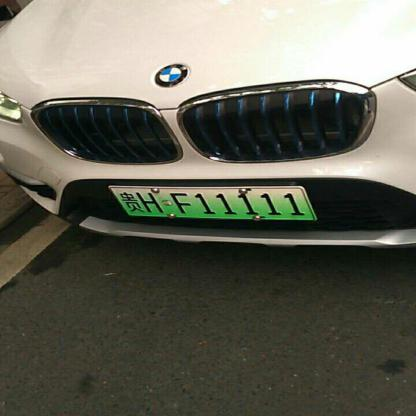lp: (110, 188, 314, 218)
